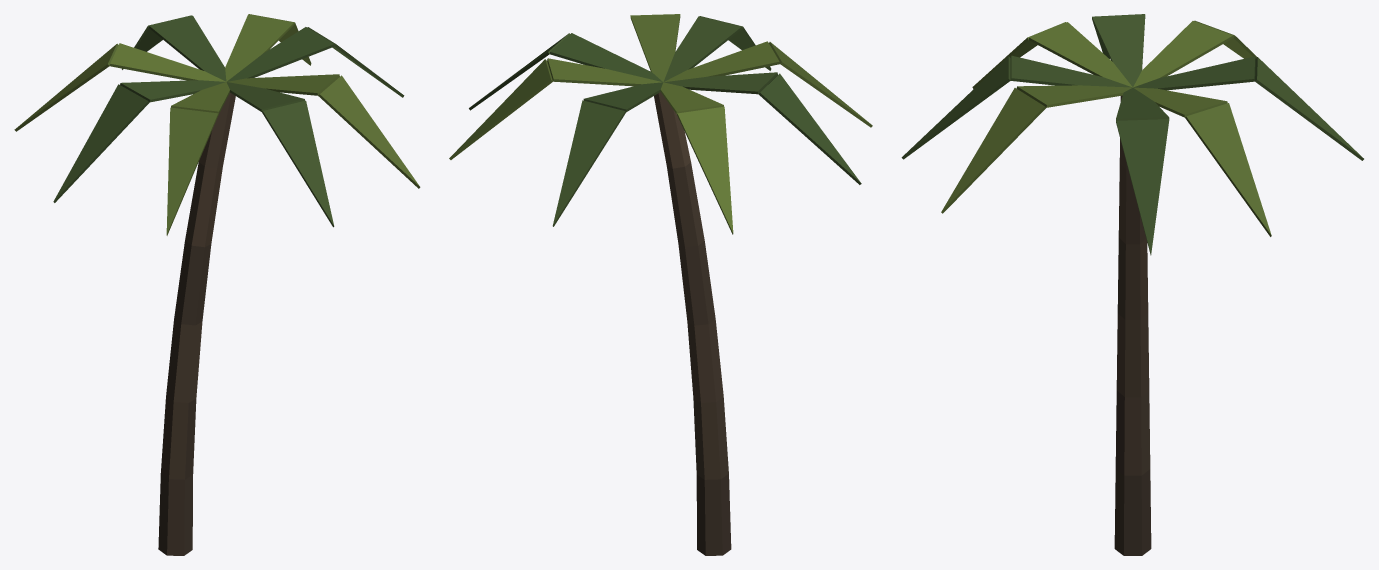
The model's file is palm.glb.
3 renders of one model, left to right at view 1: azimuth 30°, elevation 25°; view 2: azimuth 150°, elevation 25°; view 3: azimuth 270°, elevation 25°, orthographic. The views are drawn at different scales.
Visible parts, largest first — view 1: palm; view 2: palm; view 3: palm.
Boxes of the visible parts, box(x1,y1,x2,y2) form: palm: box(14, 14, 420, 555); palm: box(449, 14, 872, 555); palm: box(901, 14, 1363, 555).
Size of the model in its own units: 6.02 by 7.34 by 6.05.
1 material, 1 textured.
